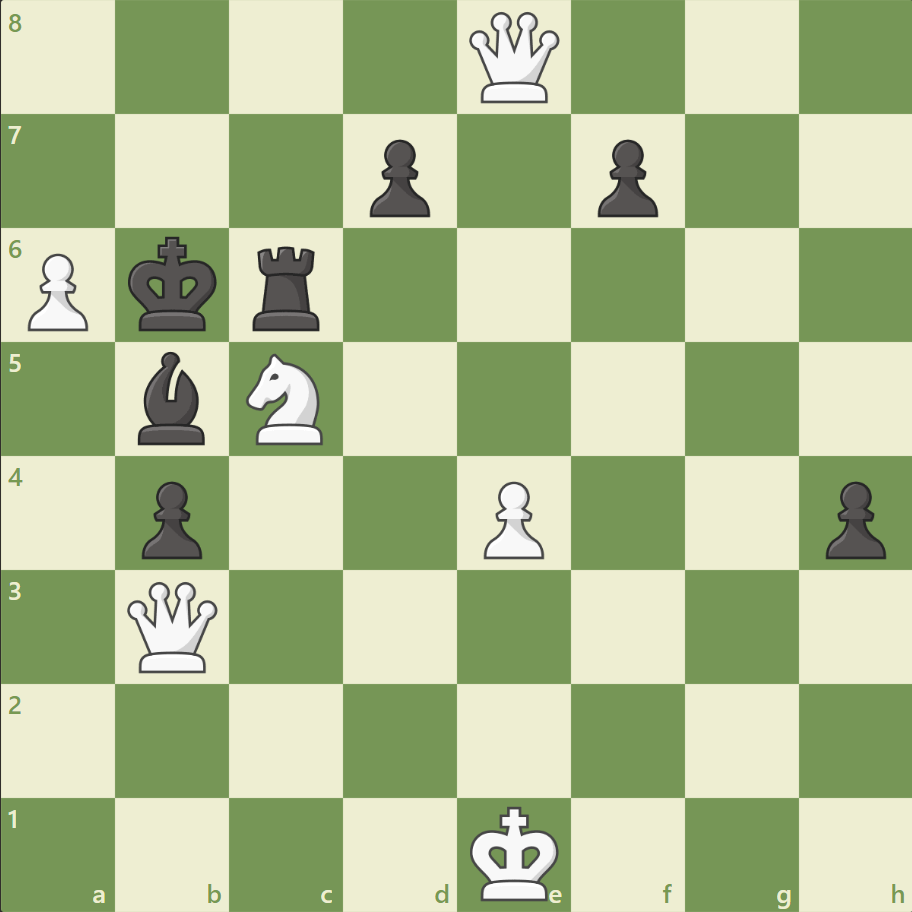K: (465, 798, 565, 906)
N: (238, 348, 335, 450)
P: (20, 246, 95, 337), (474, 473, 549, 564)
Q: (124, 576, 223, 676), (464, 9, 563, 108)
b: (131, 347, 215, 449)
k: (124, 231, 224, 339)
p: (133, 473, 208, 564), (361, 132, 435, 223), (588, 132, 662, 223), (815, 473, 889, 564)
r: (246, 239, 329, 336)
